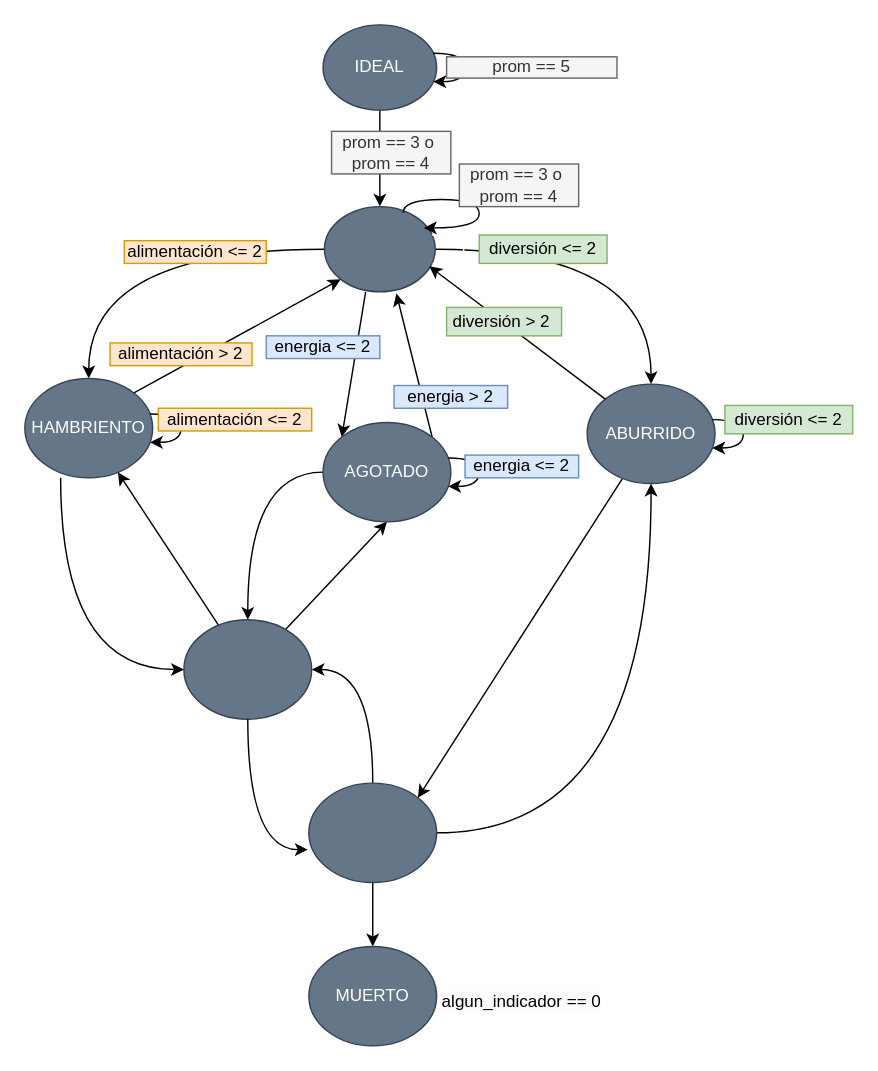
The diagram is 878 pixels wide and 1071 high, and some of its shapes have lost their labels. The shapes that lost their labels are listed below. From the top down, each one's centre as x and y in pixels, then its label:
At [379,248]: "NEUTRO".
At [247,668]: "ENFERMO".
At [372,832]: "TRISTE".
